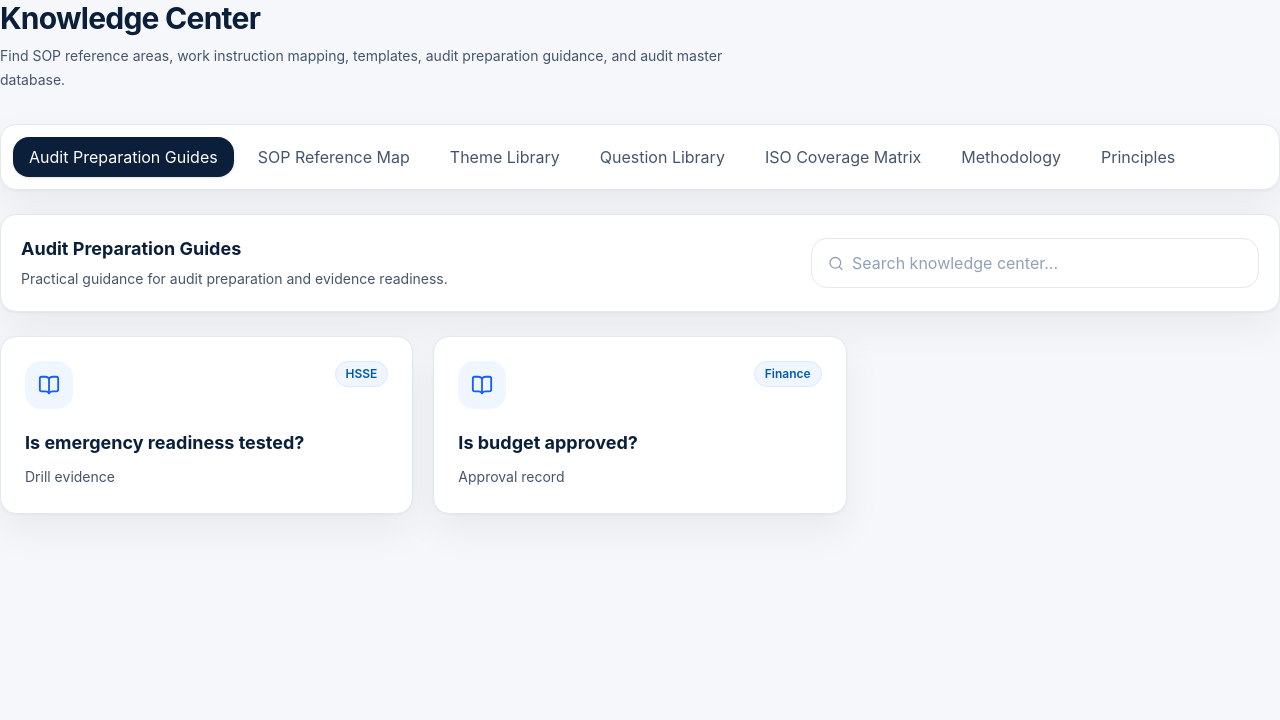
KnowledgeCenter › filters audit questions by search and domain
Click the button "Question Library" at (662, 157), box x1=584 y1=137 x2=741 y2=177
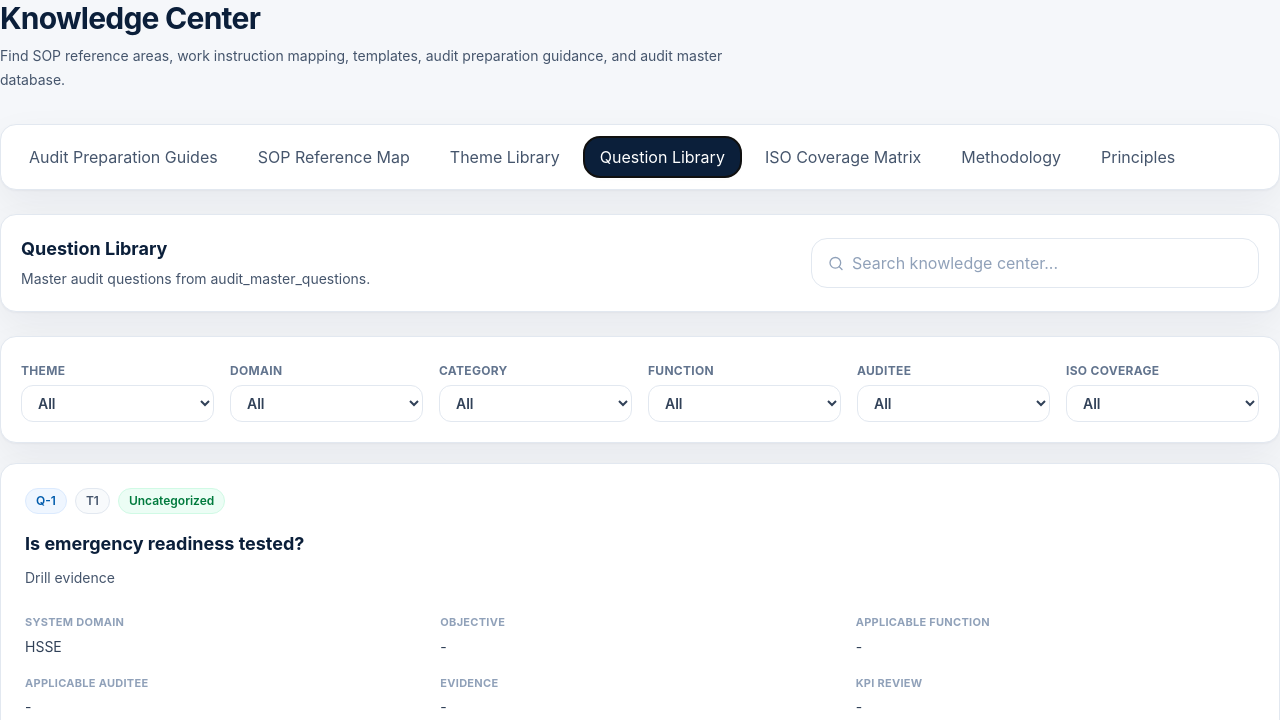
Expected: the heading "Is emergency readiness tested?" is shown, x1=25 y1=530 x2=304 y2=558
Select "HSSE" in the dropdown labelled "Domain" at (326, 404), box x1=230 y1=385 x2=423 y2=422
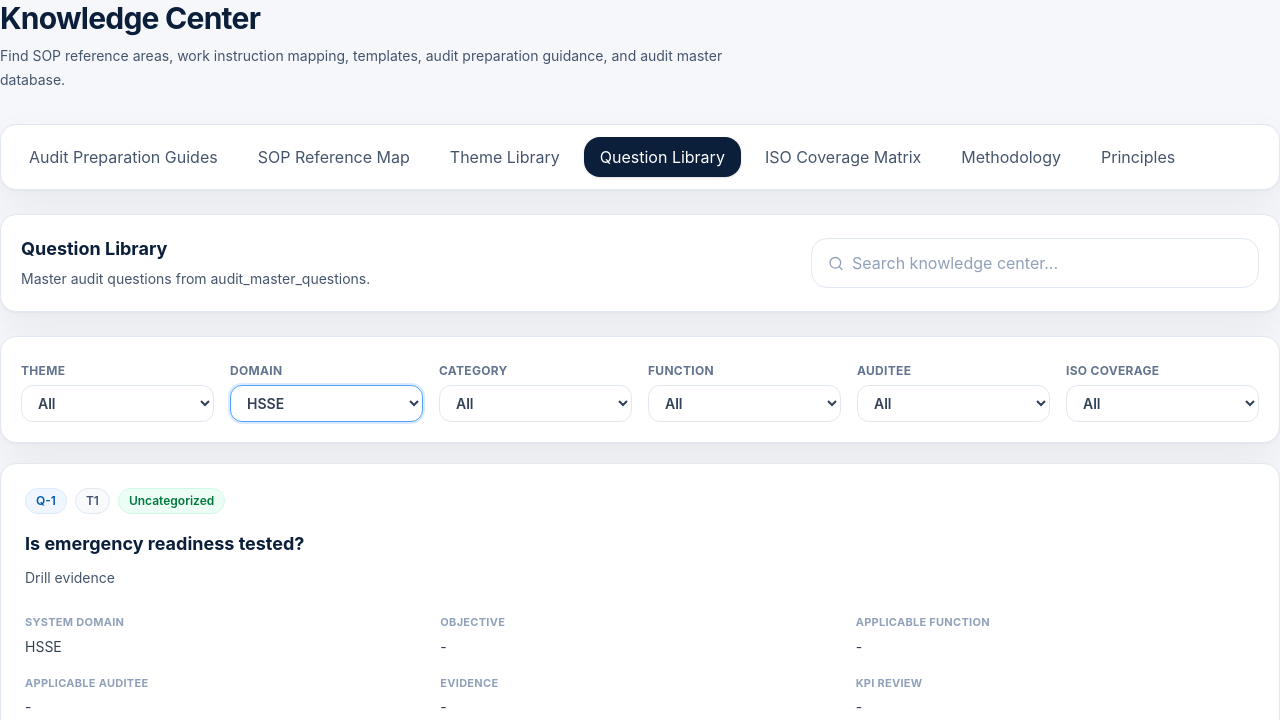
Expected: the text "Is budget approved?" is not shown
Type "missing" into the field with placeholder "Search knowledge center..." at (1047, 263), box x1=852 y1=251 x2=1242 y2=275
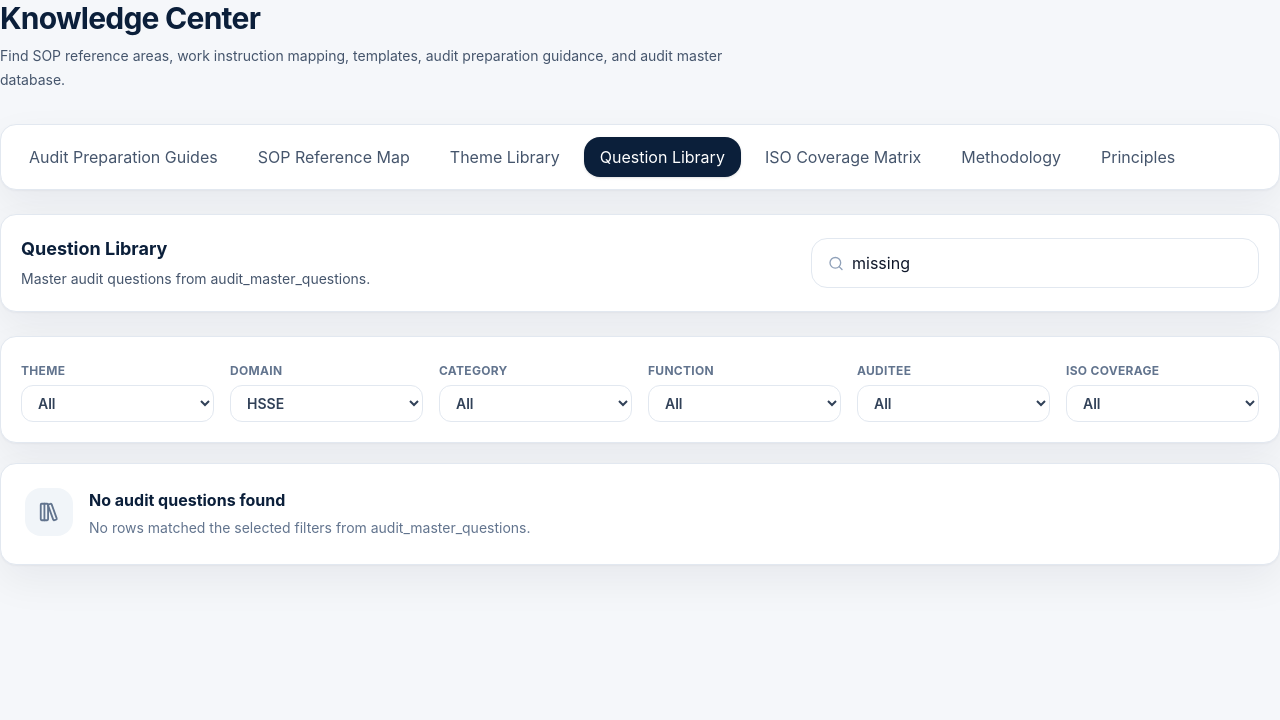
Now the heading "No audit questions found" is shown, box x1=89 y1=490 x2=285 y2=510
